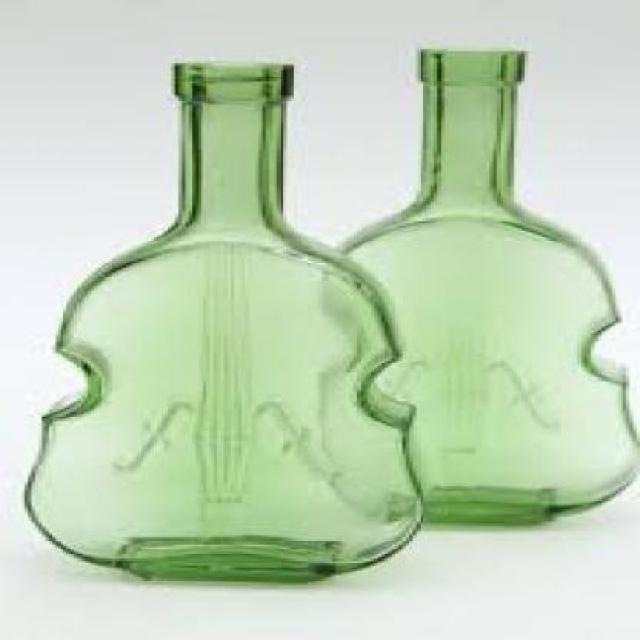kaca: (22, 60, 420, 585), (315, 49, 637, 526)
